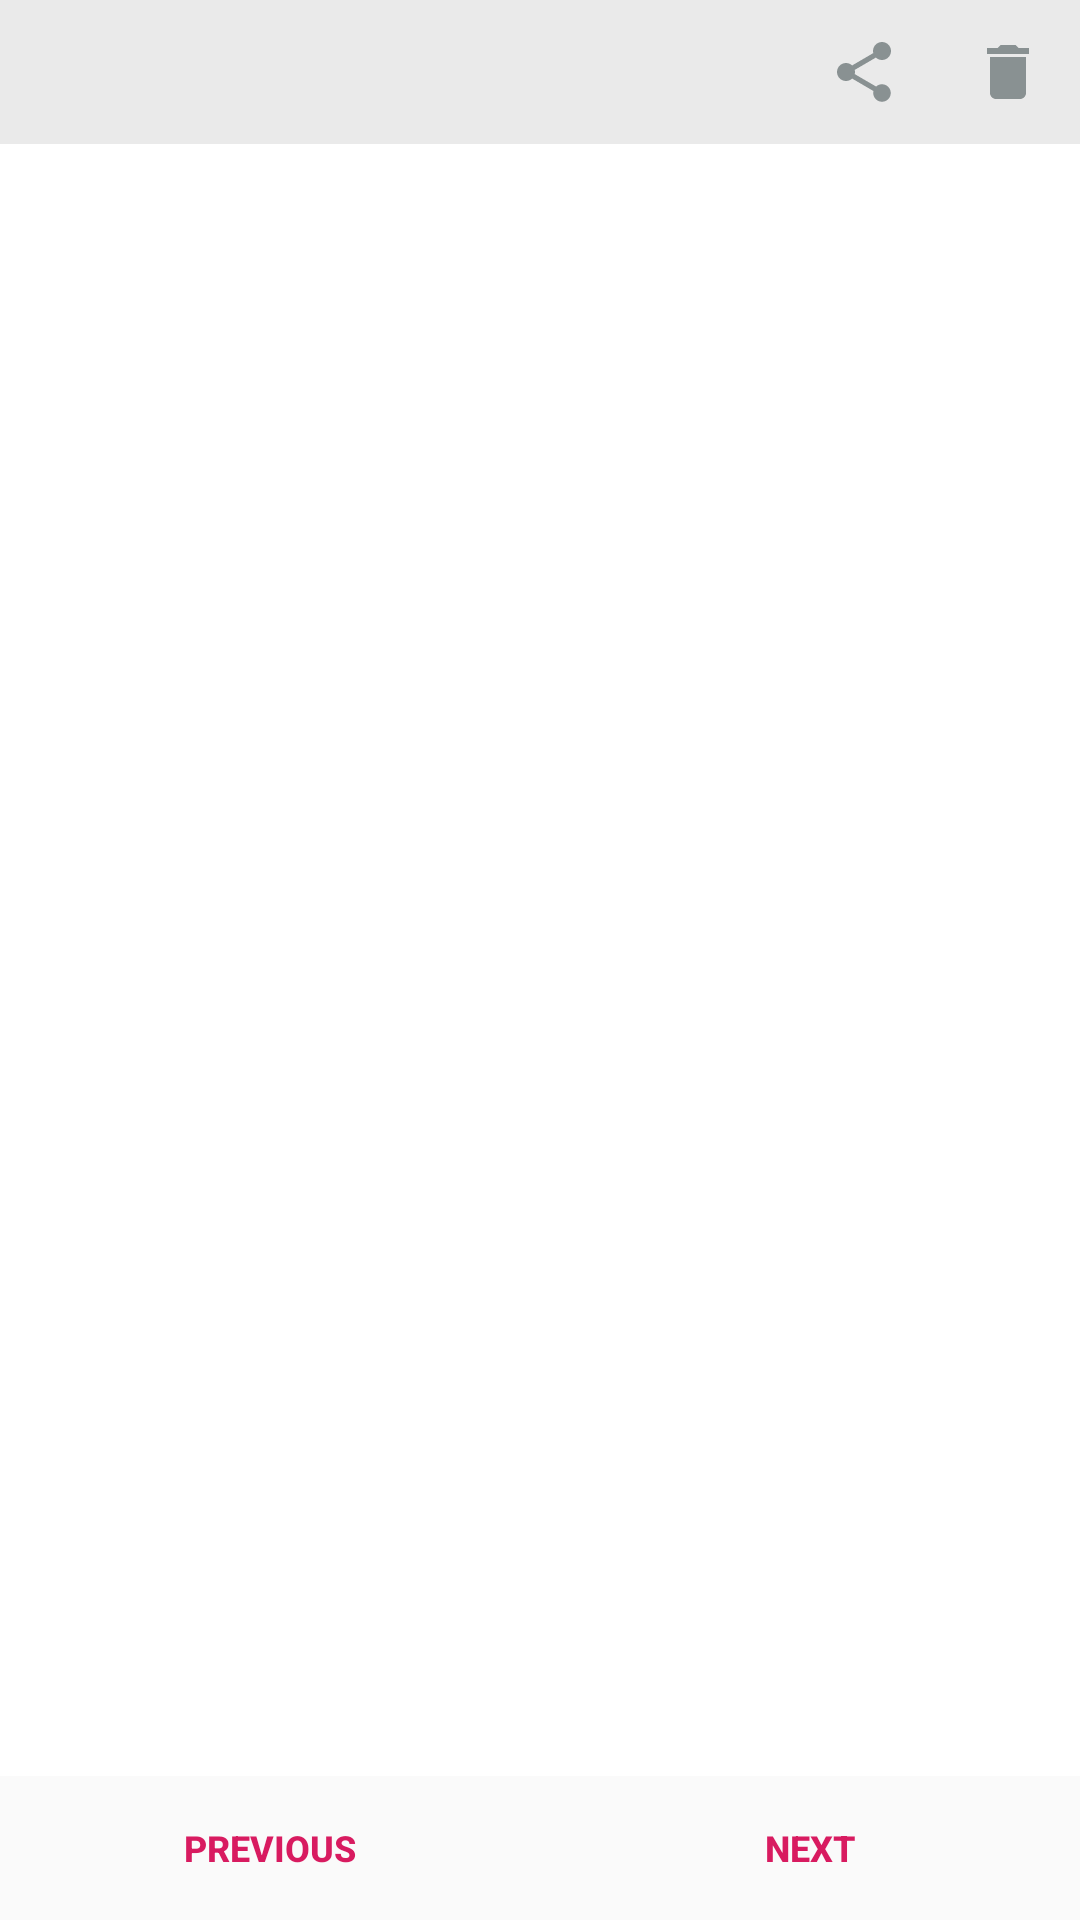

Icon click points for this 1080×1920 phone screenshot, format [x,y]:
share: [864,72]
